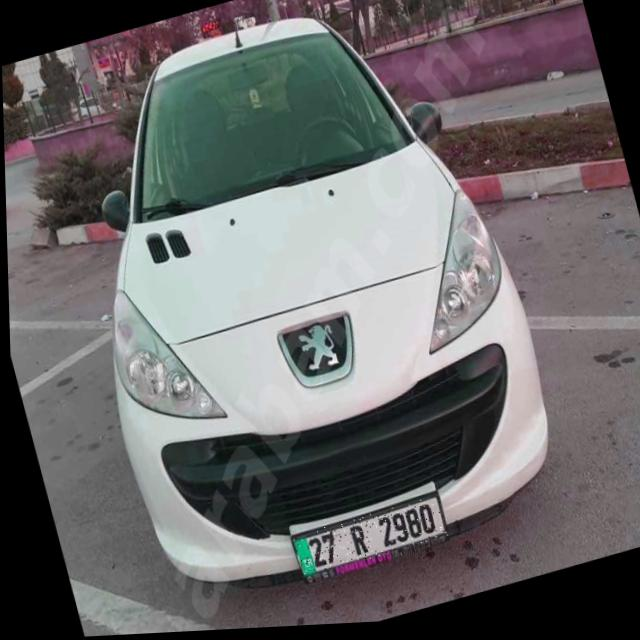license_plate: (287, 498, 446, 581)
